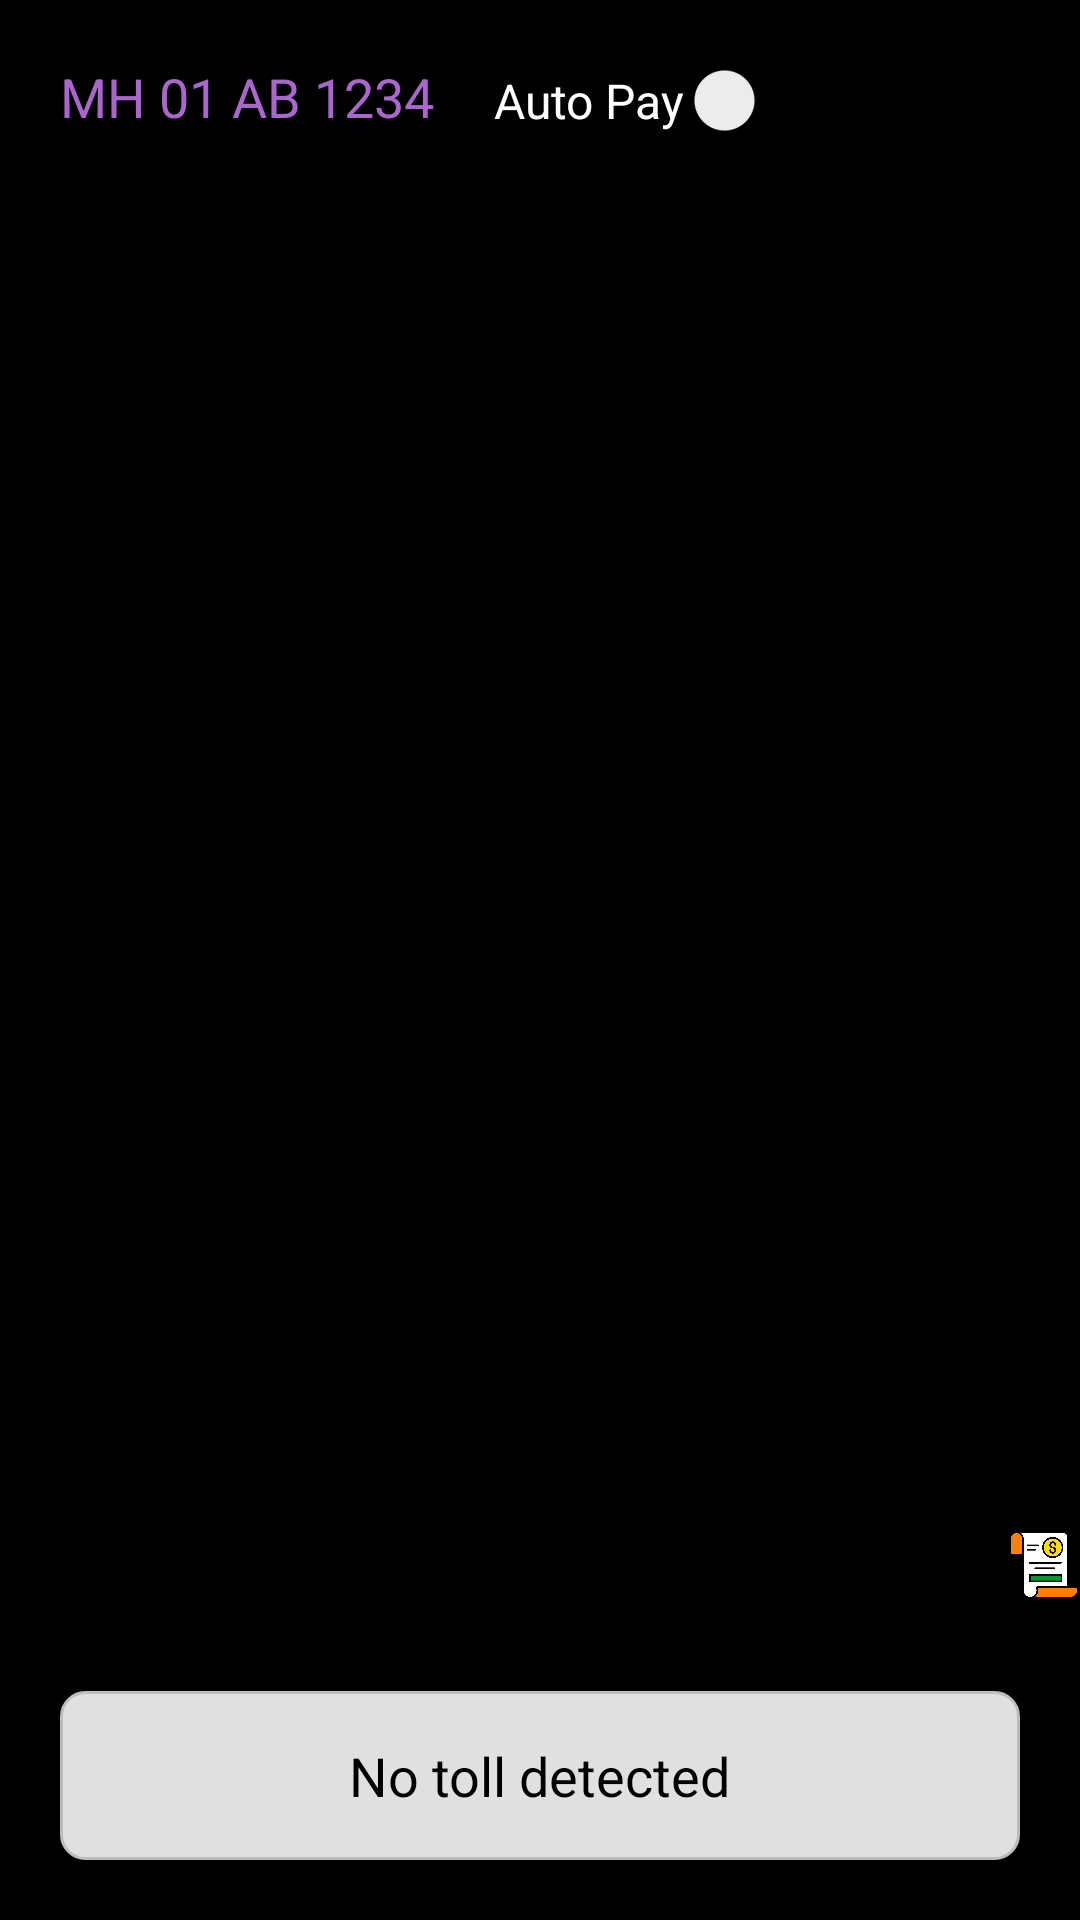

Icon click points for this 1080×1920 phone screenshot, format [x,y]:
reciept: [1044,1565]
